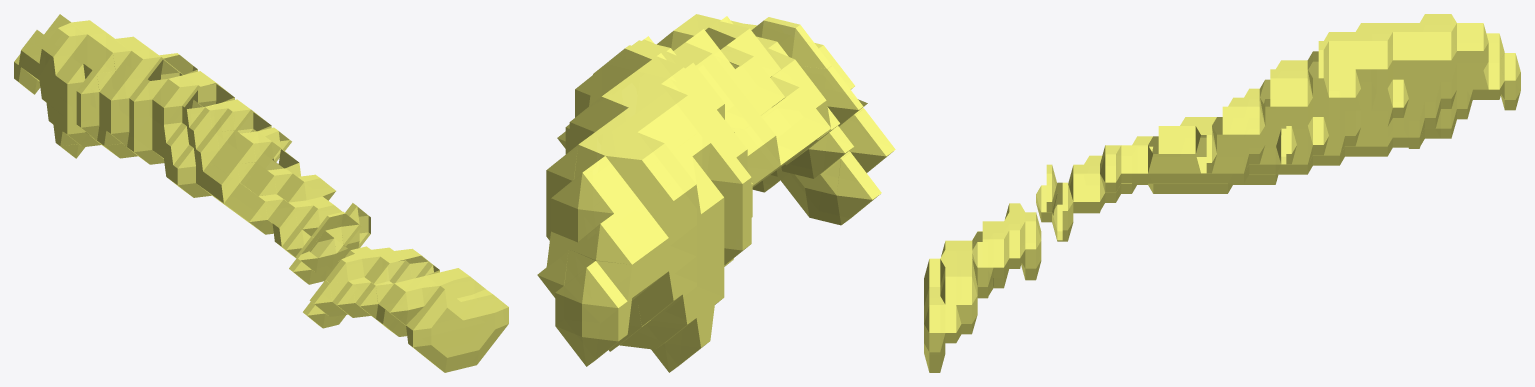
The model's file is SVV_BWM-VR08.gltf.
The picture shows the model from 3 angles, left to right: view 1: azimuth 30°, elevation 25°; view 2: azimuth 150°, elevation 25°; view 3: azimuth 270°, elevation 25°; orthographic projection. The views are drawn at different scales.
Parts seen in each view (by area): view 1: BWM-VR08; view 2: BWM-VR08; view 3: BWM-VR08.
Boxes of the visible parts, <box> form: BWM-VR08: <box>14,14,508,372</box>; BWM-VR08: <box>537,14,895,372</box>; BWM-VR08: <box>924,14,1520,372</box>.
Size of the model in its own units: 7679 by 6656 by 14343.
